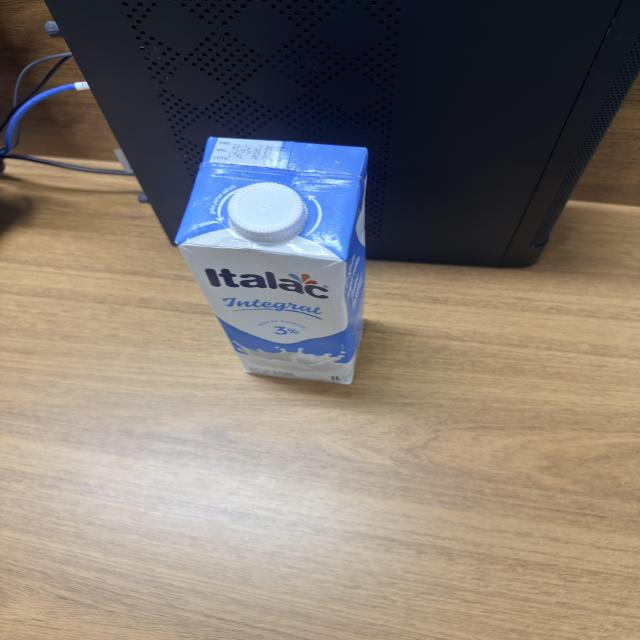Caixa de Leite: (173, 138, 370, 382)
